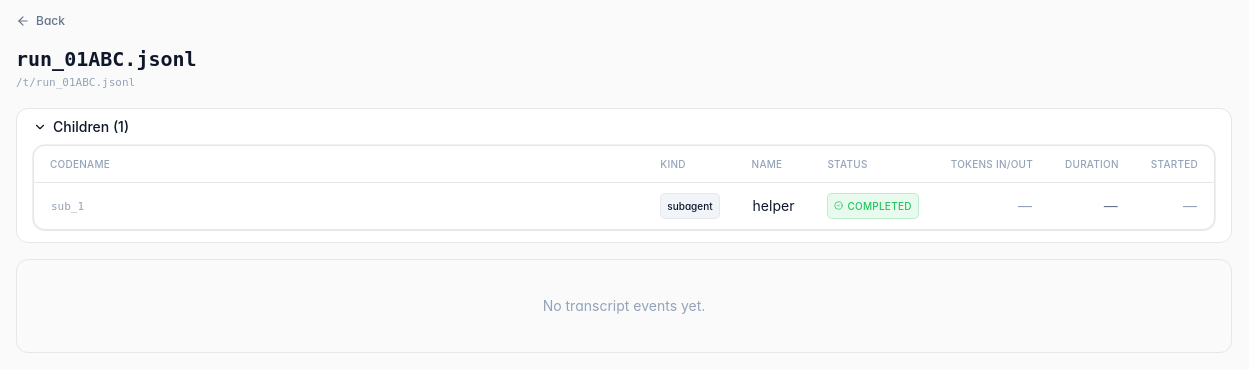
it: RunTranscript children › lists a standalone run's children under a collapsible section
The width and height of the screenshot is (1249, 370).
Expected: the element with test id "children-panel" shows "helper", [737,186,810,226]
Click the button "Children (1)" at (86, 126), box [17,108,1231,144]
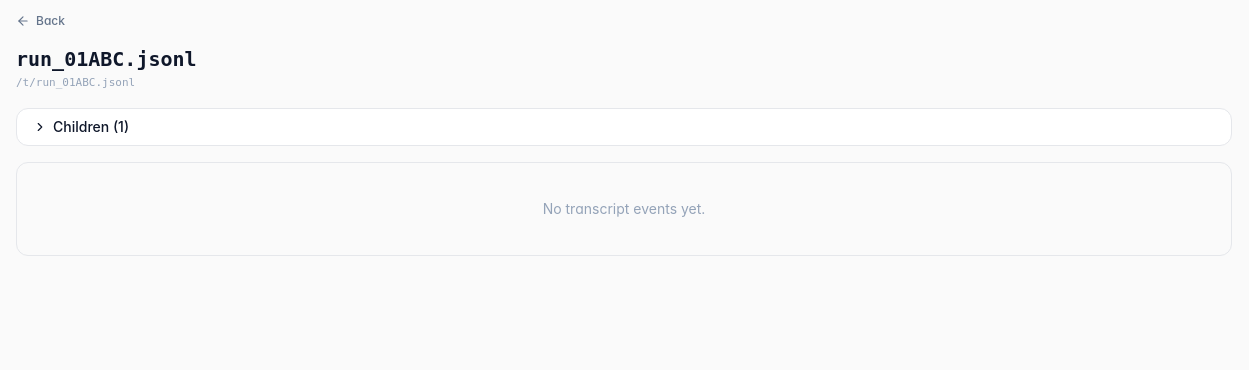
Expected: the button "Children (1)" is collapsed, [17,108,1231,144]
